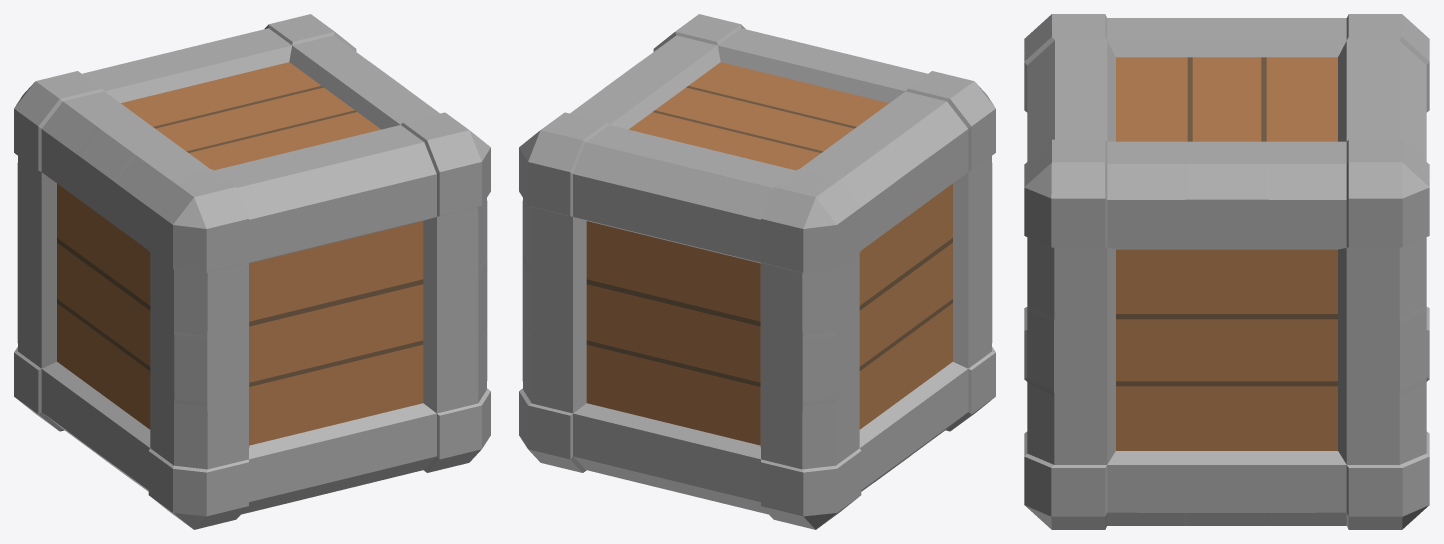
3 renders of one model, left to right at view 1: azimuth 30°, elevation 25°; view 2: azimuth 150°, elevation 25°; view 3: azimuth 270°, elevation 25°, orthographic. The views are drawn at different scales.
Parts seen in each view (by area): view 1: Cube; view 2: Cube; view 3: Cube.
Part boxes in pixels (x1,y1,x2,y2): Cube: (14, 14, 490, 529); Cube: (519, 14, 995, 529); Cube: (1024, 14, 1429, 529).
Size of the model in its own units: 200 by 200 by 200.
